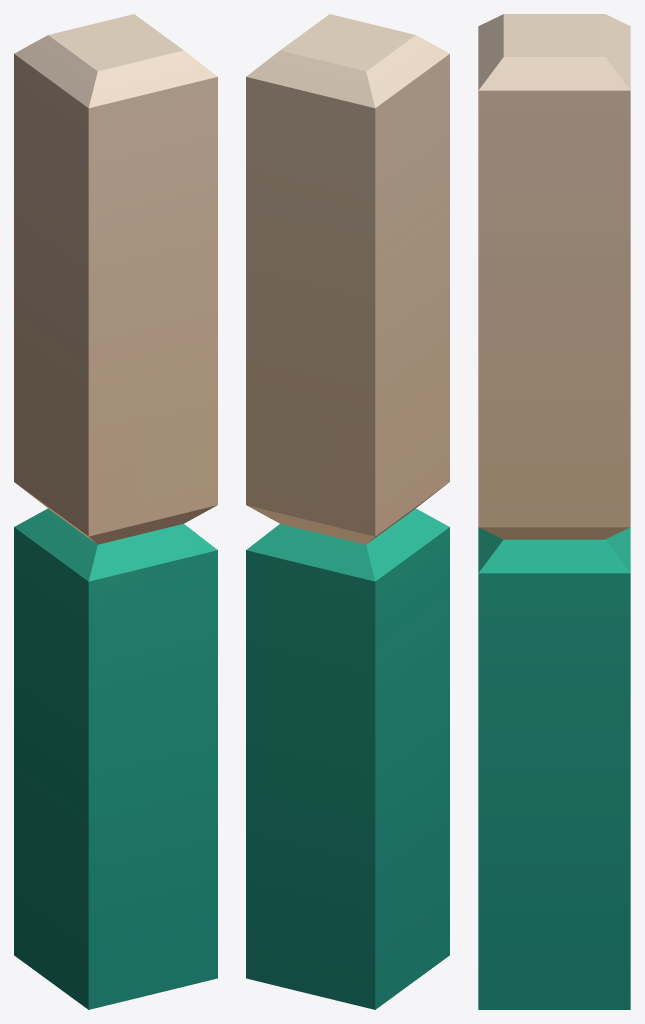
The model's file is pillar-a.glb.
The picture shows the model from 3 angles, left to right: view 1: azimuth 30°, elevation 25°; view 2: azimuth 150°, elevation 25°; view 3: azimuth 270°, elevation 25°; orthographic projection.
Visible parts, largest first — view 1: pillar_A; view 2: pillar_A; view 3: pillar_A.
Boxes of the visible parts, x1=… form: pillar_A: x1=14, y1=14, x2=217, y2=1009; pillar_A: x1=246, y1=14, x2=449, y2=1009; pillar_A: x1=478, y1=14, x2=630, y2=1009.
Bounding box in the file's own units: 0.6001 × 4.1 × 0.6001.
Materials: 1 (1 with a texture image).
